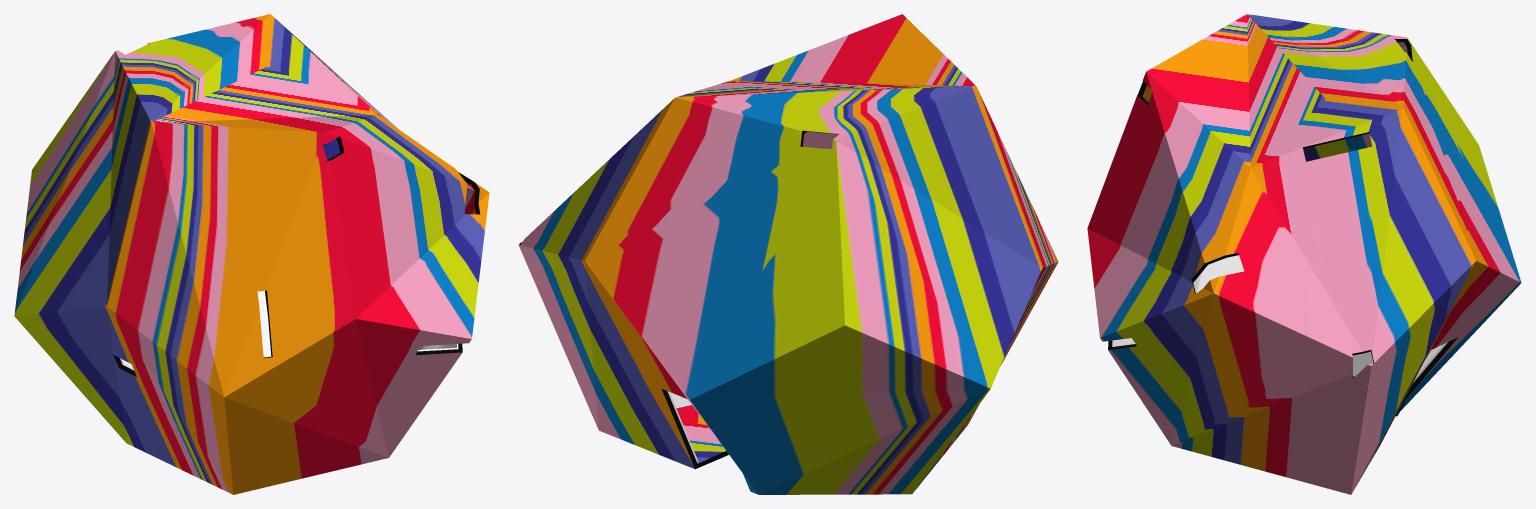
The picture shows the model from 3 angles, left to right: view 1: azimuth 30°, elevation 25°; view 2: azimuth 150°, elevation 25°; view 3: azimuth 270°, elevation 25°; orthographic projection. The views are drawn at different scales.
Visible parts, largest first — view 1: Solids, Frames, Solids_2; view 2: Solids, Solids_2, Frames; view 3: Solids, Display wall, Frames, Solids_2.
Boxes of the visible parts, x1=… form: Solids: x1=14, y1=14, x2=489, y2=494; Frames: x1=113, y1=43, x2=480, y2=376; Solids_2: x1=322, y1=139, x2=475, y2=214; Solids: x1=518, y1=14, x2=1058, y2=494; Solids_2: x1=676, y1=131, x2=838, y2=463; Frames: x1=520, y1=130, x2=838, y2=469; Solids: x1=1087, y1=14, x2=1521, y2=494; Display wall: x1=1112, y1=255, x2=1447, y2=382; Frames: x1=1108, y1=39, x2=1458, y2=416; Solids_2: x1=1142, y1=42, x2=1407, y2=161.
Size of the model in its own units: 25.64 by 19.85 by 22.9.
3 materials, 3 textured.
